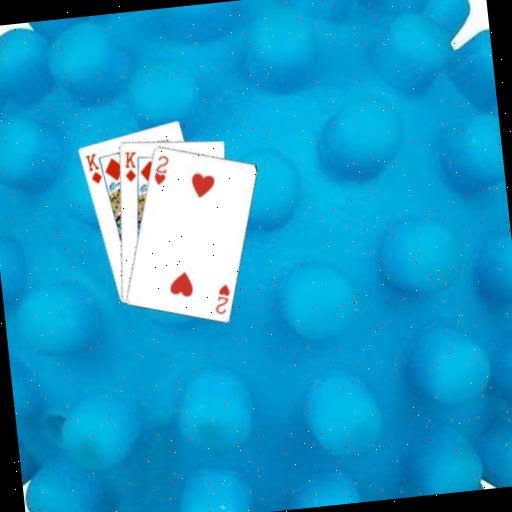2H: (209, 281, 233, 317), (149, 152, 173, 187)
KD: (82, 150, 105, 187), (120, 147, 141, 184)
